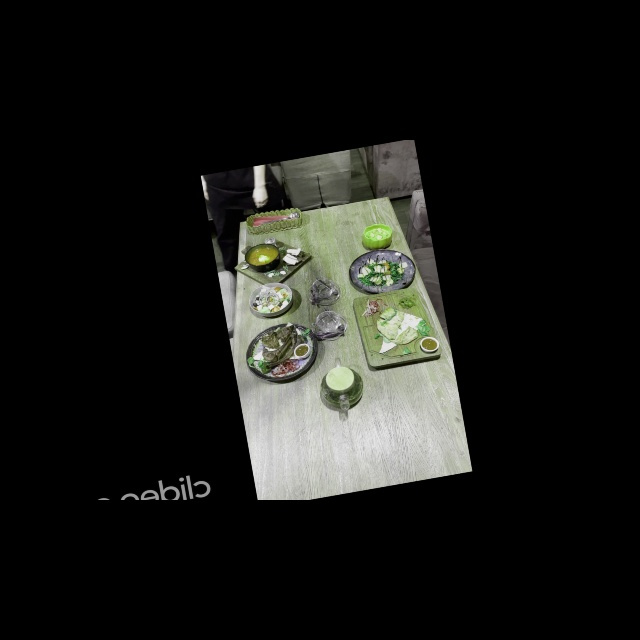Том ям: (230, 233, 315, 292)
графин с чаем: (316, 354, 367, 414)
закуска: (352, 284, 443, 371)
мясное блюдо: (241, 319, 323, 386)
салат: (346, 244, 419, 299)
салат цезарь: (246, 280, 296, 321)
суп сырный: (360, 222, 395, 252)
